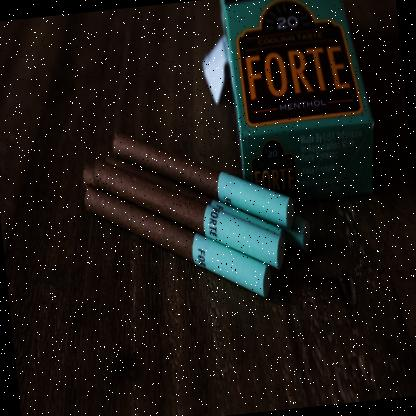bungkus rokok: (217, 0, 382, 211)
